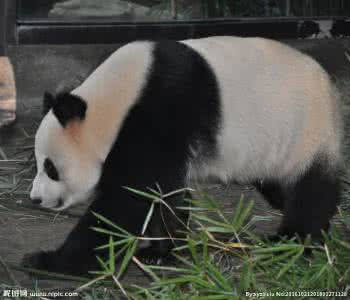panda: (30, 31, 341, 285)
